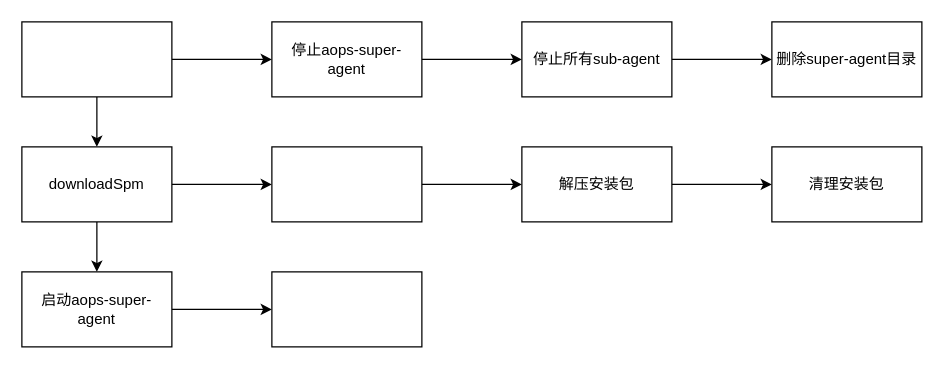
Image size: 944x369. Some labels were removed from this diagram. Here are the shapes that lost their labels. From the top down, the centre of each, then its label:
At point (96, 59): "removeBeforeInstall".
At point (346, 184): "下载aops-super-agent二进制包、签名包".
At point (346, 309): "./spm >> x.log".
